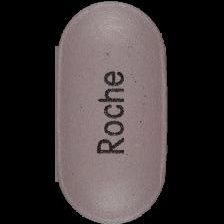0004-0260: (0, 0, 224, 224)
